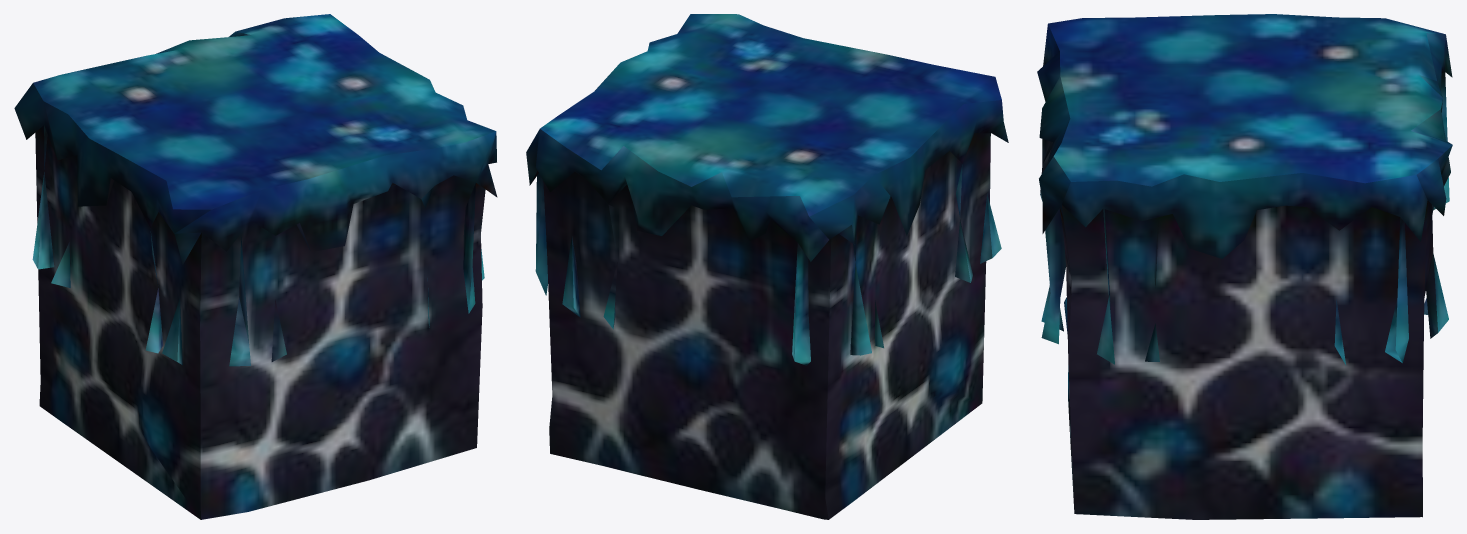
The model's file is b_mycelium_mur_3.glb.
3 views of the same model, side by side, from view 1: azimuth 30°, elevation 25°; view 2: azimuth 150°, elevation 25°; view 3: azimuth 270°, elevation 25° (orthographic). The views are drawn at different scales.
Parts seen in each view (by area): view 1: geometry_0; view 2: geometry_0; view 3: geometry_0.
Boxes of the visible parts, x1,y1,x2,y2 form: geometry_0: [14, 14, 497, 519]; geometry_0: [526, 14, 1008, 519]; geometry_0: [1037, 14, 1452, 519].
Size of the model in its own units: 1 by 0.9375 by 1.
1 material, 1 textured.
